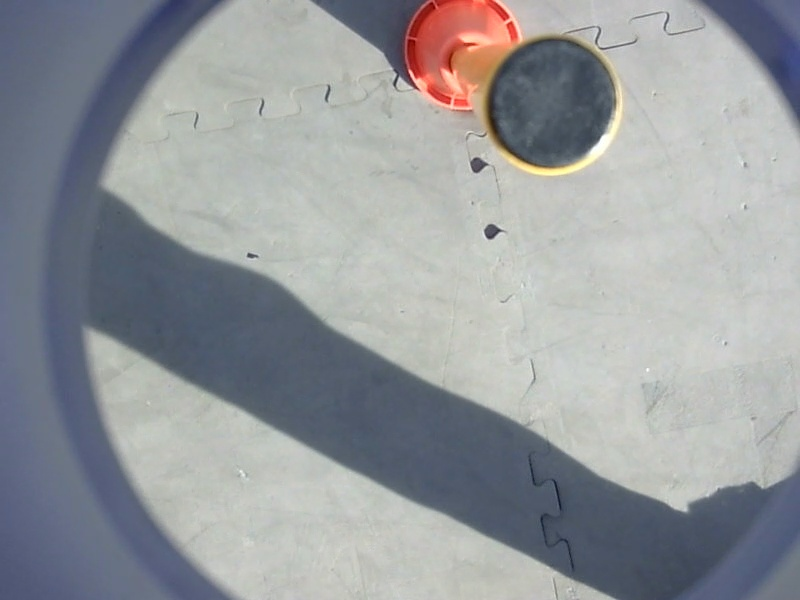tip: (474, 27, 628, 178)
